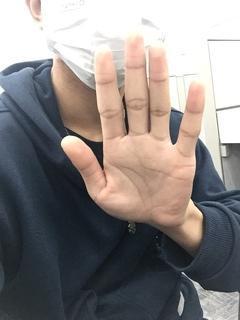hand: (60, 32, 206, 226)
